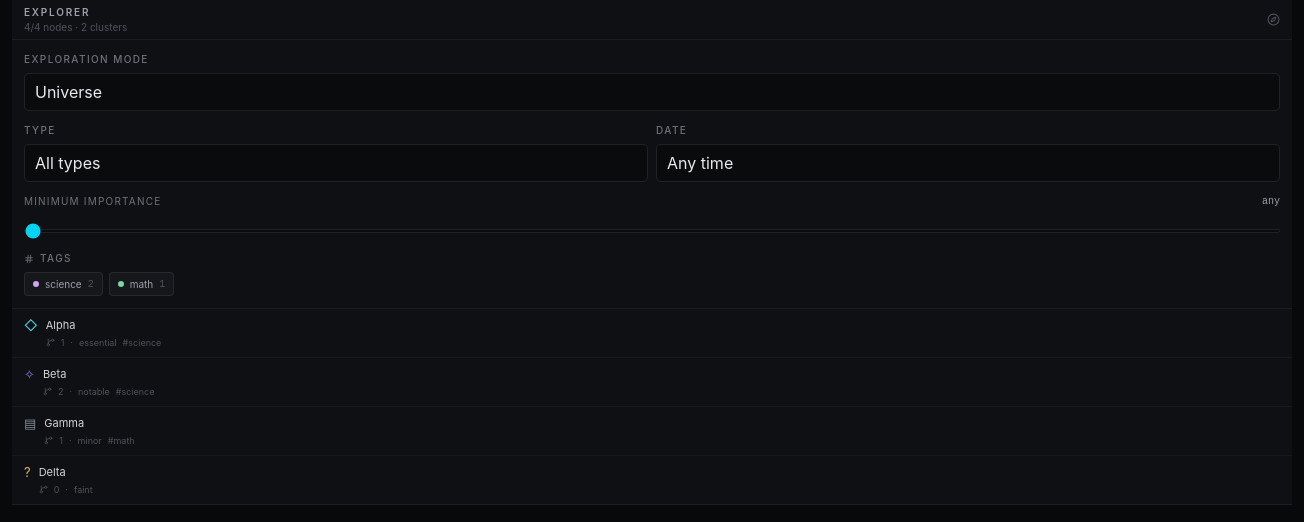
Test: ExplorerPanel › filters by tag and clears all filters again
What coordinates should you click on to do the following:
click the button "science"
I would click on:
 (63, 284)
Its box is left=45, top=276, right=82, bottom=292.
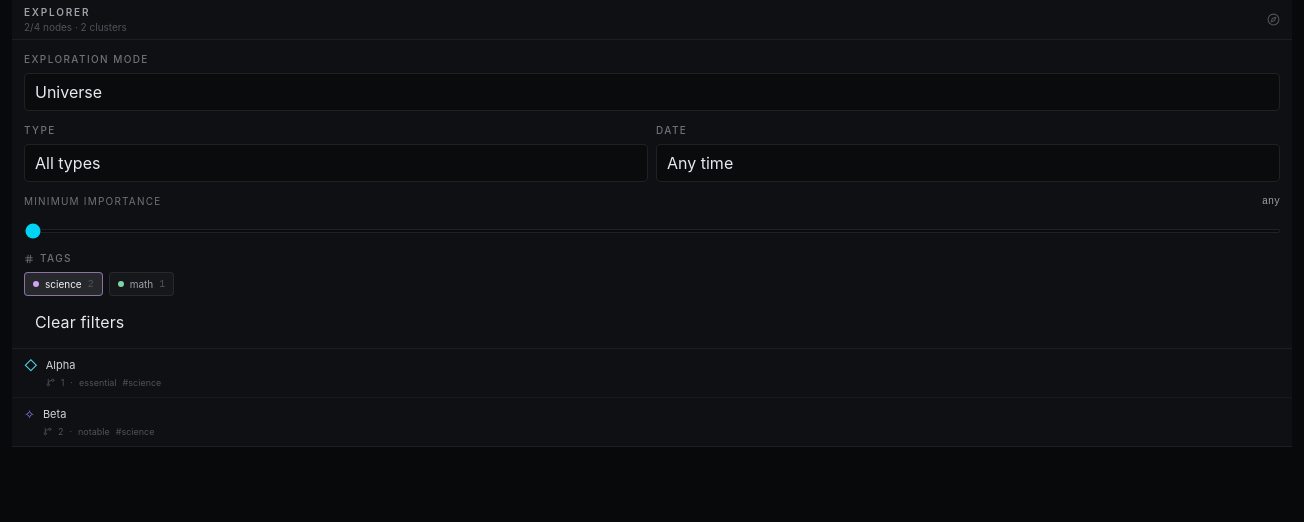
Expected: the text "2/4 nodes · 2 clusters" is shown, left=24, top=20, right=127, bottom=32
Expected: the button "Clear filters" is shown
Expected: the button "Delta" is gone
What coordinates should you click on to do the following:
click the button "Clear filters"
I would click on:
 (80, 322)
Its box is left=24, top=308, right=135, bottom=336.
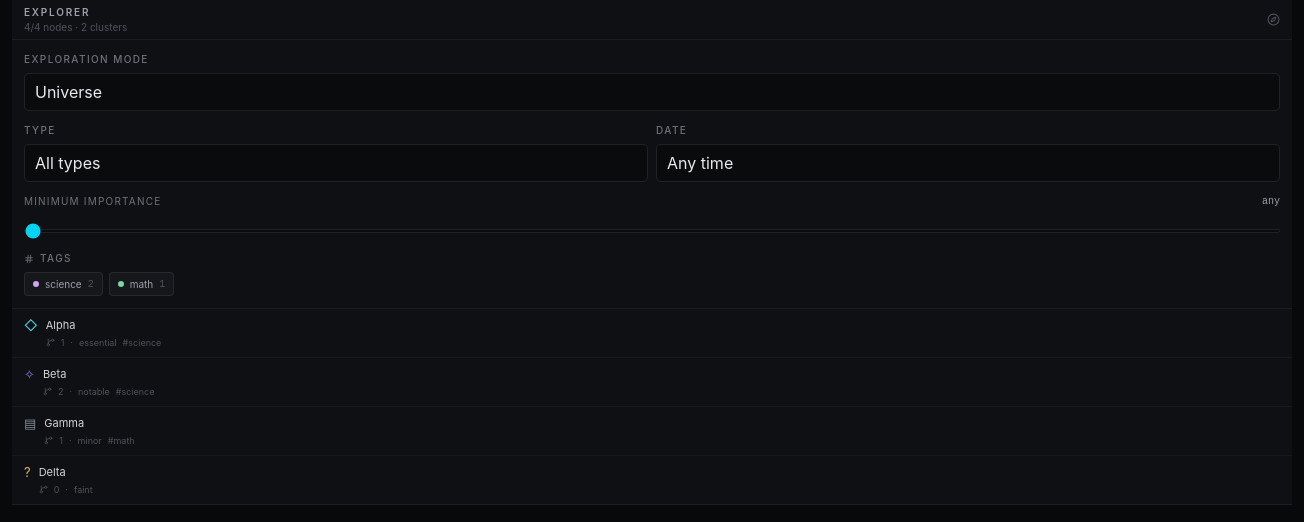
Expected: the text "4/4 nodes · 2 clusters" is shown, left=24, top=20, right=127, bottom=32
Expected: the button "Clear filters" is gone
